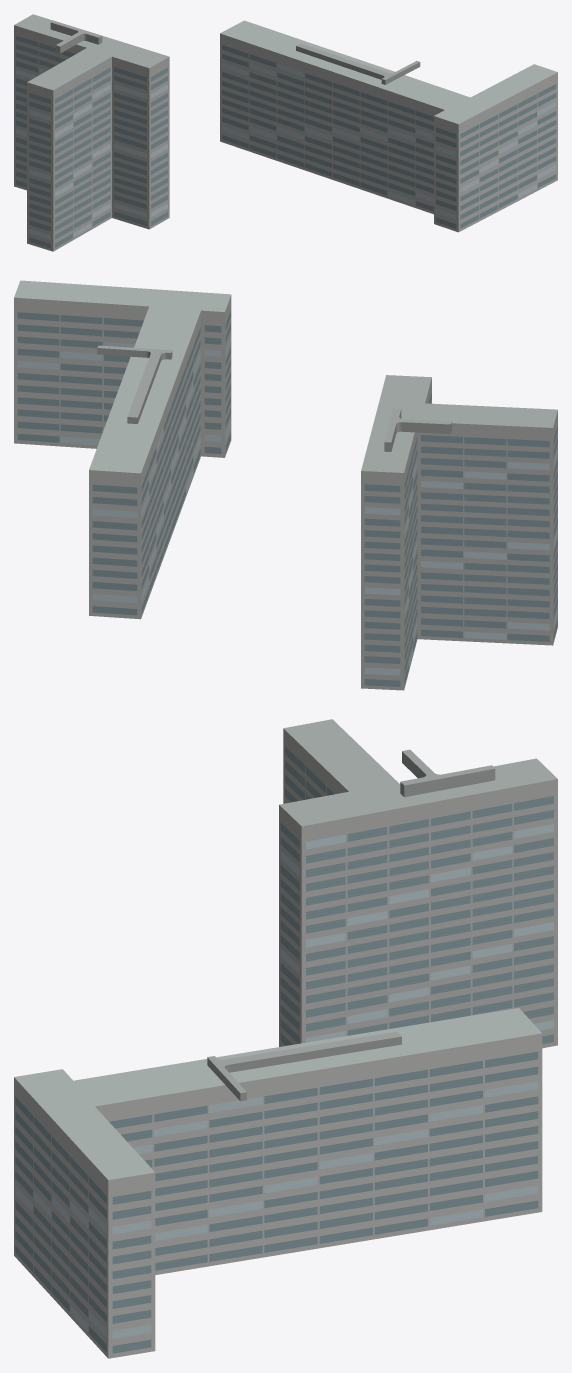
File: apt-a13779431.glb
3 renders of one model, top to bottom at view 1: azimuth 30°, elevation 25°; view 2: azimuth 150°, elevation 25°; view 3: azimuth 270°, elevation 25°, orthographic. The views are drawn at different scales.
Parts seen in each view (by area): view 1: apt-a13779431; view 2: apt-a13779431; view 3: apt-a13779431.
Boxes of the visible parts, x1,y1,x2,y2 form: apt-a13779431: (14,14,557,251); apt-a13779431: (14,280,557,690); apt-a13779431: (14,719,557,1358).
Size of the model in its own units: 164 by 57 by 101.
